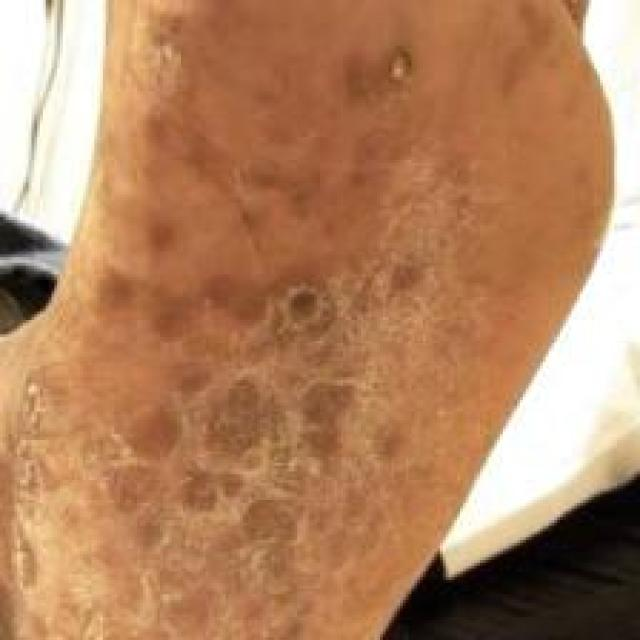monkeypox: (71, 0, 488, 640)
